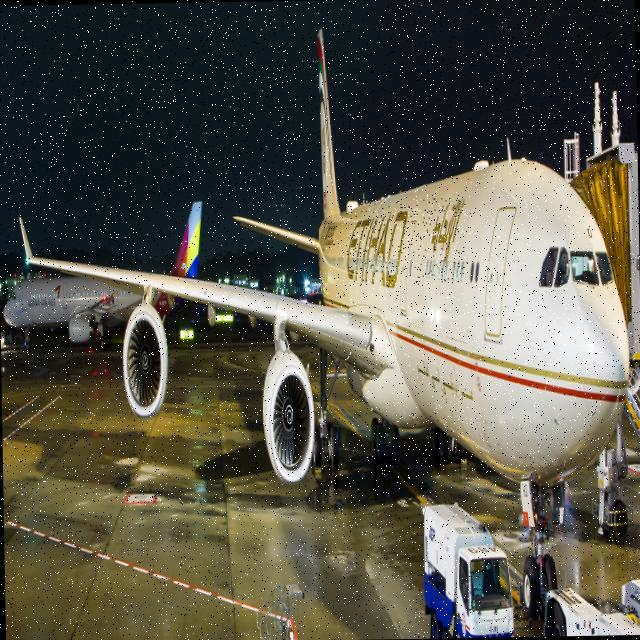Etihad Airways: (346, 197, 467, 288)
